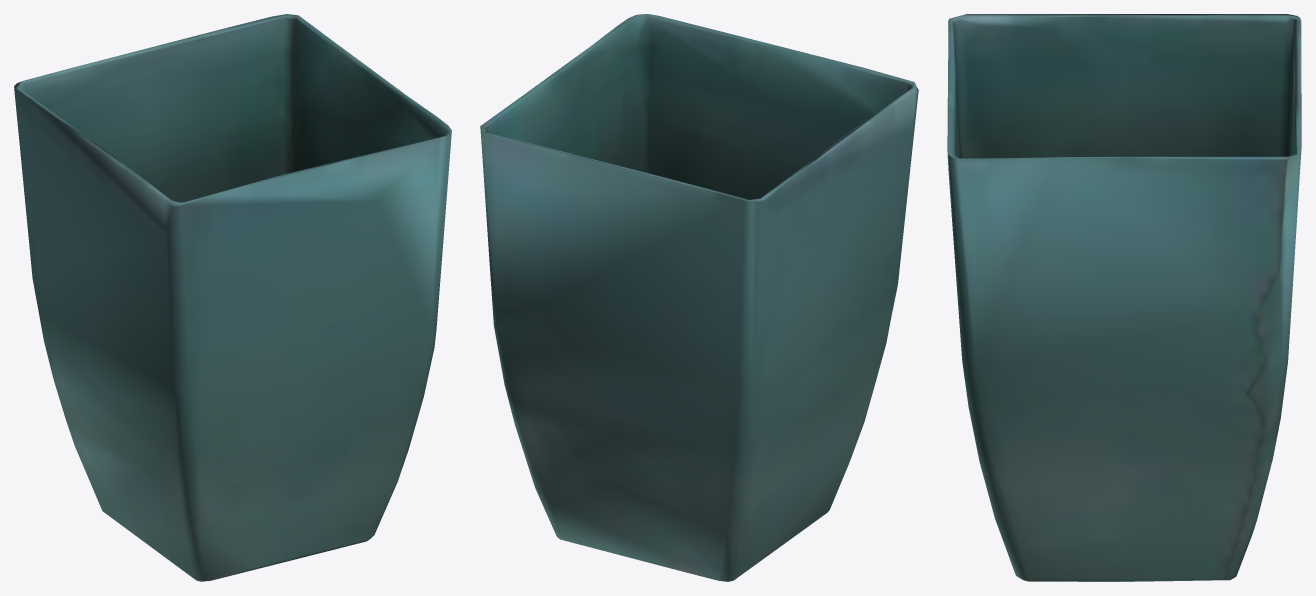
The model's file is Ecoforms_Plant_Container_Quadra_Turquoise_QP12-medium.glb.
3 renders of one model, left to right at view 1: azimuth 30°, elevation 25°; view 2: azimuth 150°, elevation 25°; view 3: azimuth 270°, elevation 25°, orthographic. The views are drawn at different scales.
Parts seen in each view (by area): view 1: Ecoforms_Plant_Container_Quadra_Turquoise_QP12; view 2: Ecoforms_Plant_Container_Quadra_Turquoise_QP12; view 3: Ecoforms_Plant_Container_Quadra_Turquoise_QP12.
Boxes of the visible parts, bbox=[...] form: Ecoforms_Plant_Container_Quadra_Turquoise_QP12: bbox=[14, 14, 451, 581]; Ecoforms_Plant_Container_Quadra_Turquoise_QP12: bbox=[480, 14, 918, 581]; Ecoforms_Plant_Container_Quadra_Turquoise_QP12: bbox=[947, 14, 1301, 581].
Bounding box in the file's own units: 0.1991 × 0.2825 × 0.1991.
1 material, 1 textured.
